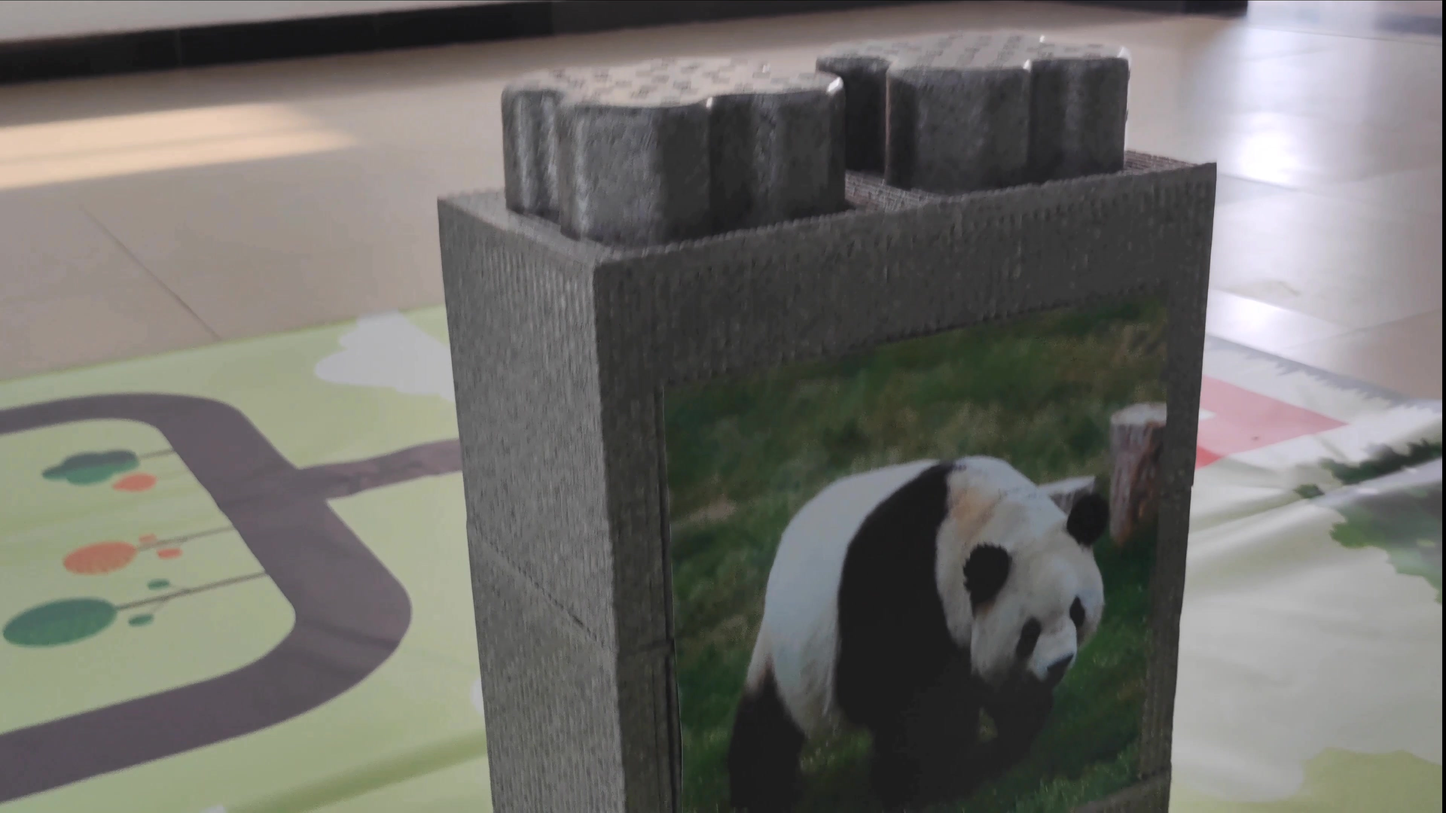panda: (716, 413, 1127, 813)
